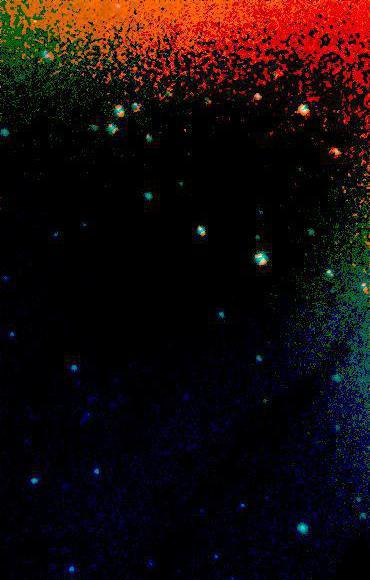star: (249, 386, 279, 416)
